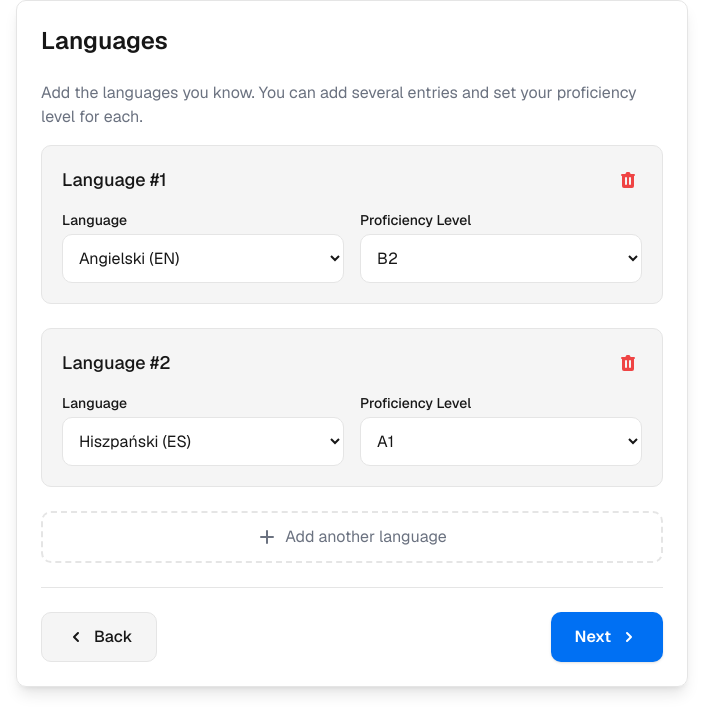
Test case: UserLanguages Component › Zarządzanie listą języków › powinien usunąć pole po kliknięciu przycisku 'Remove language'
This screenshot has width=705, height=713.
Click the 1st button named "Remove language".
click(628, 180)  # box [614,166,642,194]
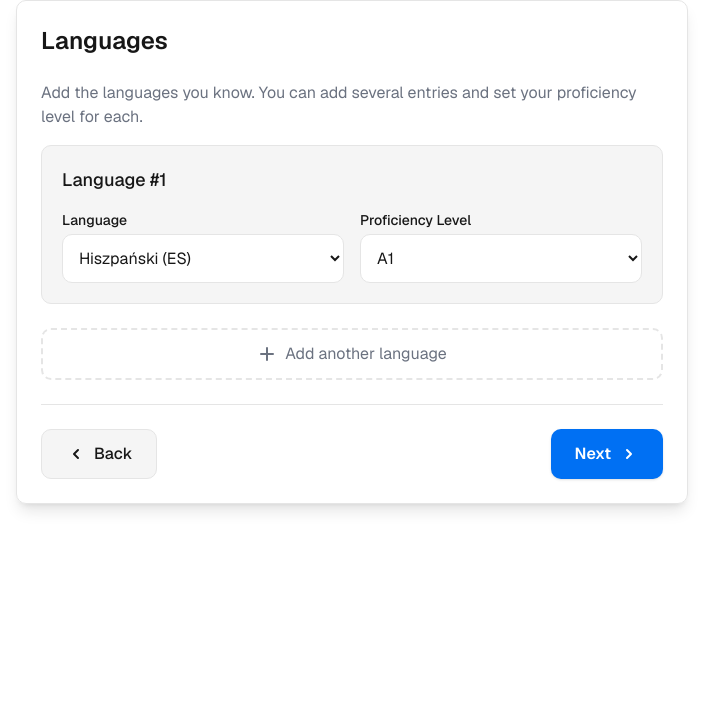
expect the heading "Language #2" is gone: met
expect the 1st dropdown shows "Hiszpański (ES)": met, box [62,234,344,283]
